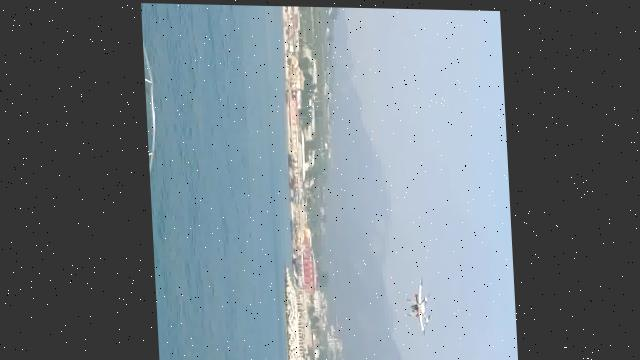drone: (397, 275, 431, 335)
